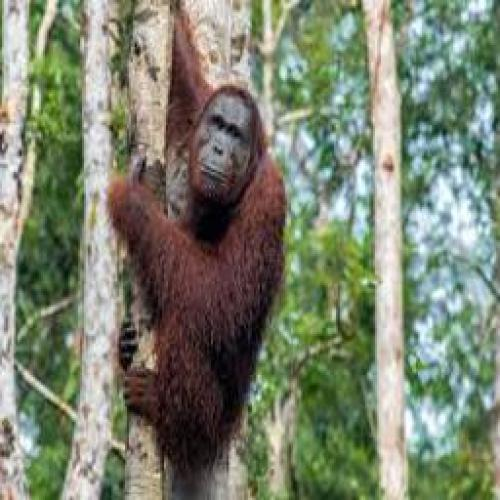orangutan-endangered: (95, 0, 304, 482)
